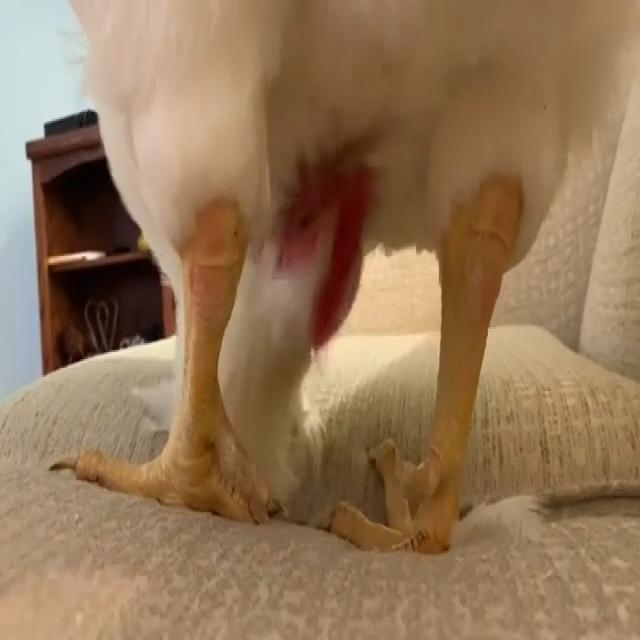self preening: (51, 0, 630, 562)
